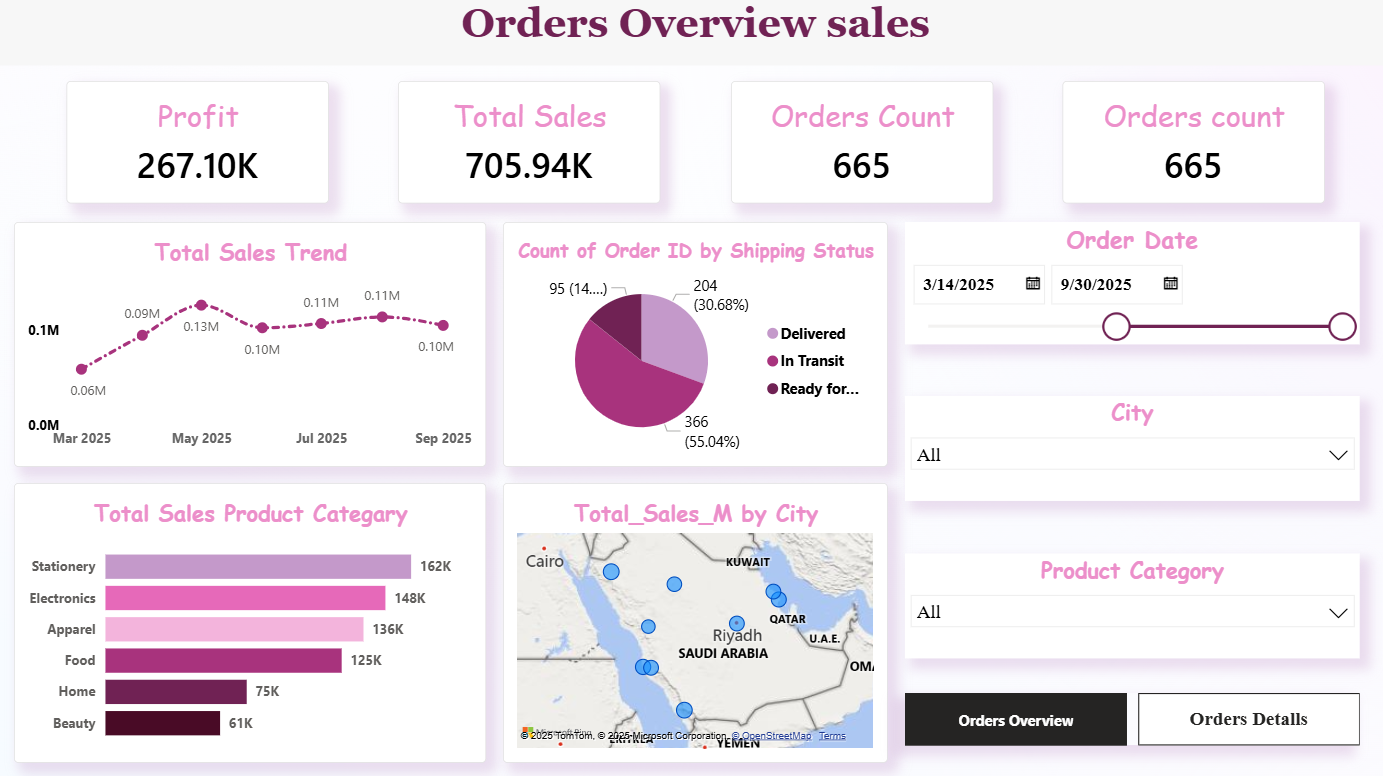

The page's visual inventory and layout, read from the dashboard file:
{"tool":"powerbi","page":{"name":"Orders Overview","canvas":[1280,720],"ordinal":0},"visuals":[{"type":"textbox","box":[0,0,1280,65],"z":0},{"type":"card","title":"Profit ","fields":{"Values":["Orders.Total_Profit_M"]},"box":[64,80,240,112],"z":1000},{"type":"card","title":"Total Sales ","fields":{"Values":["Orders.Total_Sales_M"]},"box":[368,80,240,112],"z":2000},{"type":"card","title":"Orders Count ","fields":{"Values":["Orders.Orders_Count_M"]},"box":[672,80,240,112],"z":3000},{"type":"card","title":"Orders count ","fields":{"Values":["Orders.Orders_Count_M"]},"box":[976,80,240,112],"z":4000},{"type":"lineChart","title":"Total Sales Trend","fields":{"Y":["Orders.Total_Sales_M"],"Category":["Orders.OrderDate.Variation.Date Hierarchy.Year","Orders.OrderDate.Variation.Date Hierarchy.Month"]},"box":[16,208,432,224],"z":5000},{"type":"barChart","title":"Total Sales Product Categary","fields":{"Category":["Orders.ProductCategory"],"Y":["Orders.Total_Sales_M"]},"box":[16,448,432,256],"z":6000},{"type":"pieChart","title":"Count of Order ID by Shipping Status","fields":{"Series":["Orders.ShippingStatus"],"Y":["CountNonNull(Orders.OrderID)"]},"box":[464,208,352,224],"z":7000},{"type":"map","fields":{"Category":["Orders.City"],"Size":["Orders.Total_Sales_M"]},"box":[464,448,352,256],"z":8000},{"type":"slicer","title":"Order Date","fields":{"Values":["Orders.OrderDate"]},"box":[832,208,416,112],"z":9000},{"type":"slicer","title":"City","fields":{"Values":["Orders.City"]},"box":[832,368,416,96],"z":10000},{"type":"slicer","title":"Product Category","fields":{"Values":["Orders.ProductCategory"]},"box":[832,512,416,96],"z":11000},{"type":"pageNavigator","box":[832,640,416,48],"z":12001}]}

Visuals, with their boxes in screenshot pixels (x1, y1, x2, y2), scaled from the page's 1280x720 canvas onto the 1383x776 screenshot:
textbox: locate(0, 0, 1382, 70)
"Profit " card: locate(69, 86, 328, 207)
"Total Sales " card: locate(398, 86, 657, 207)
"Orders Count " card: locate(726, 86, 985, 207)
"Orders count " card: locate(1055, 86, 1314, 207)
"Total Sales Trend" lineChart: locate(17, 224, 484, 466)
"Total Sales Product Categary" barChart: locate(17, 483, 484, 759)
"Count of Order ID by Shipping Status" pieChart: locate(501, 224, 882, 466)
map - Orders.City x Orders.Total_Sales_M: locate(501, 483, 882, 759)
"Order Date" slicer: locate(899, 224, 1348, 345)
"City" slicer: locate(899, 397, 1348, 500)
"Product Category" slicer: locate(899, 552, 1348, 655)
pageNavigator: locate(899, 690, 1348, 742)
